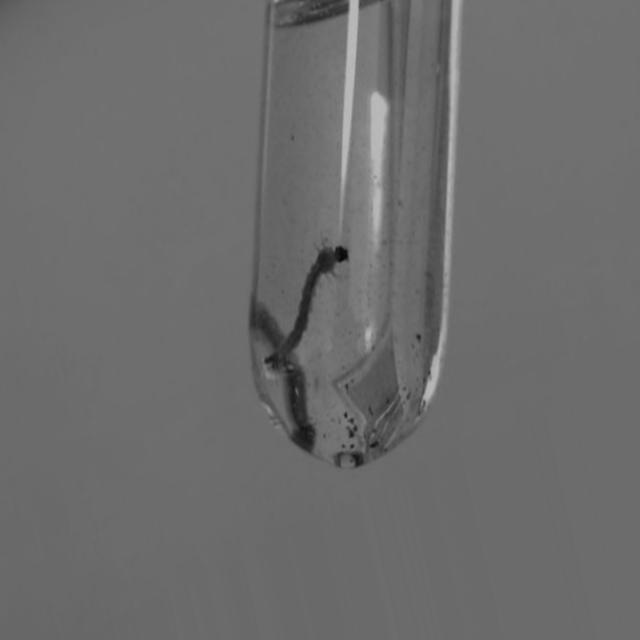larvas: (258, 235, 360, 405)
